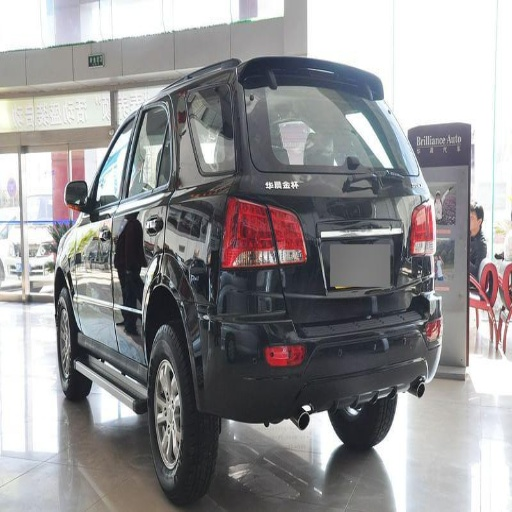back_bumper: (206, 272, 438, 412)
back_glass: (209, 69, 411, 171)
back_left_door: (115, 111, 168, 364)
back_left_light: (222, 190, 278, 269)
tailgate: (274, 174, 420, 318)
trunk: (265, 176, 352, 243)
